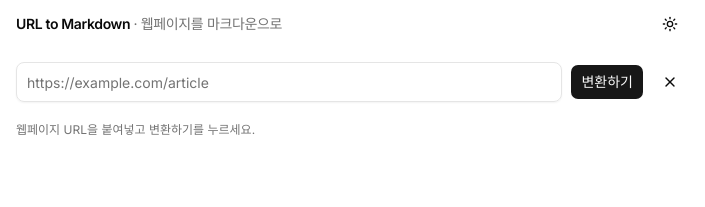
Test: 변환 실패 시 에러 메시지를 보여주고 재시도할 수 있다
In the field named "웹페이지 URL": (289, 82) [16, 62, 562, 102], type "https://example.com/paywalled"
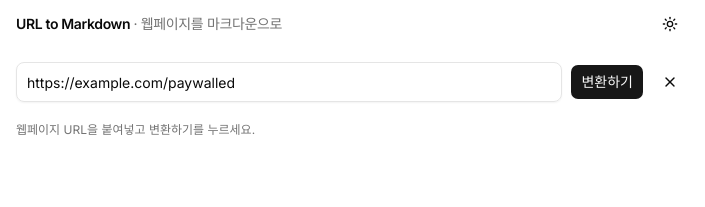
Click the button "변환하기": (607, 82) [570, 64, 644, 100]
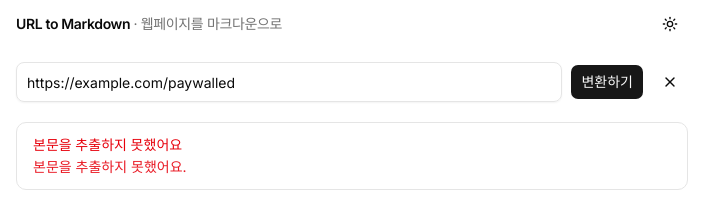
expect the text "본문을 추출하지 못했어요." is shown: met, box [33, 158, 187, 175]
